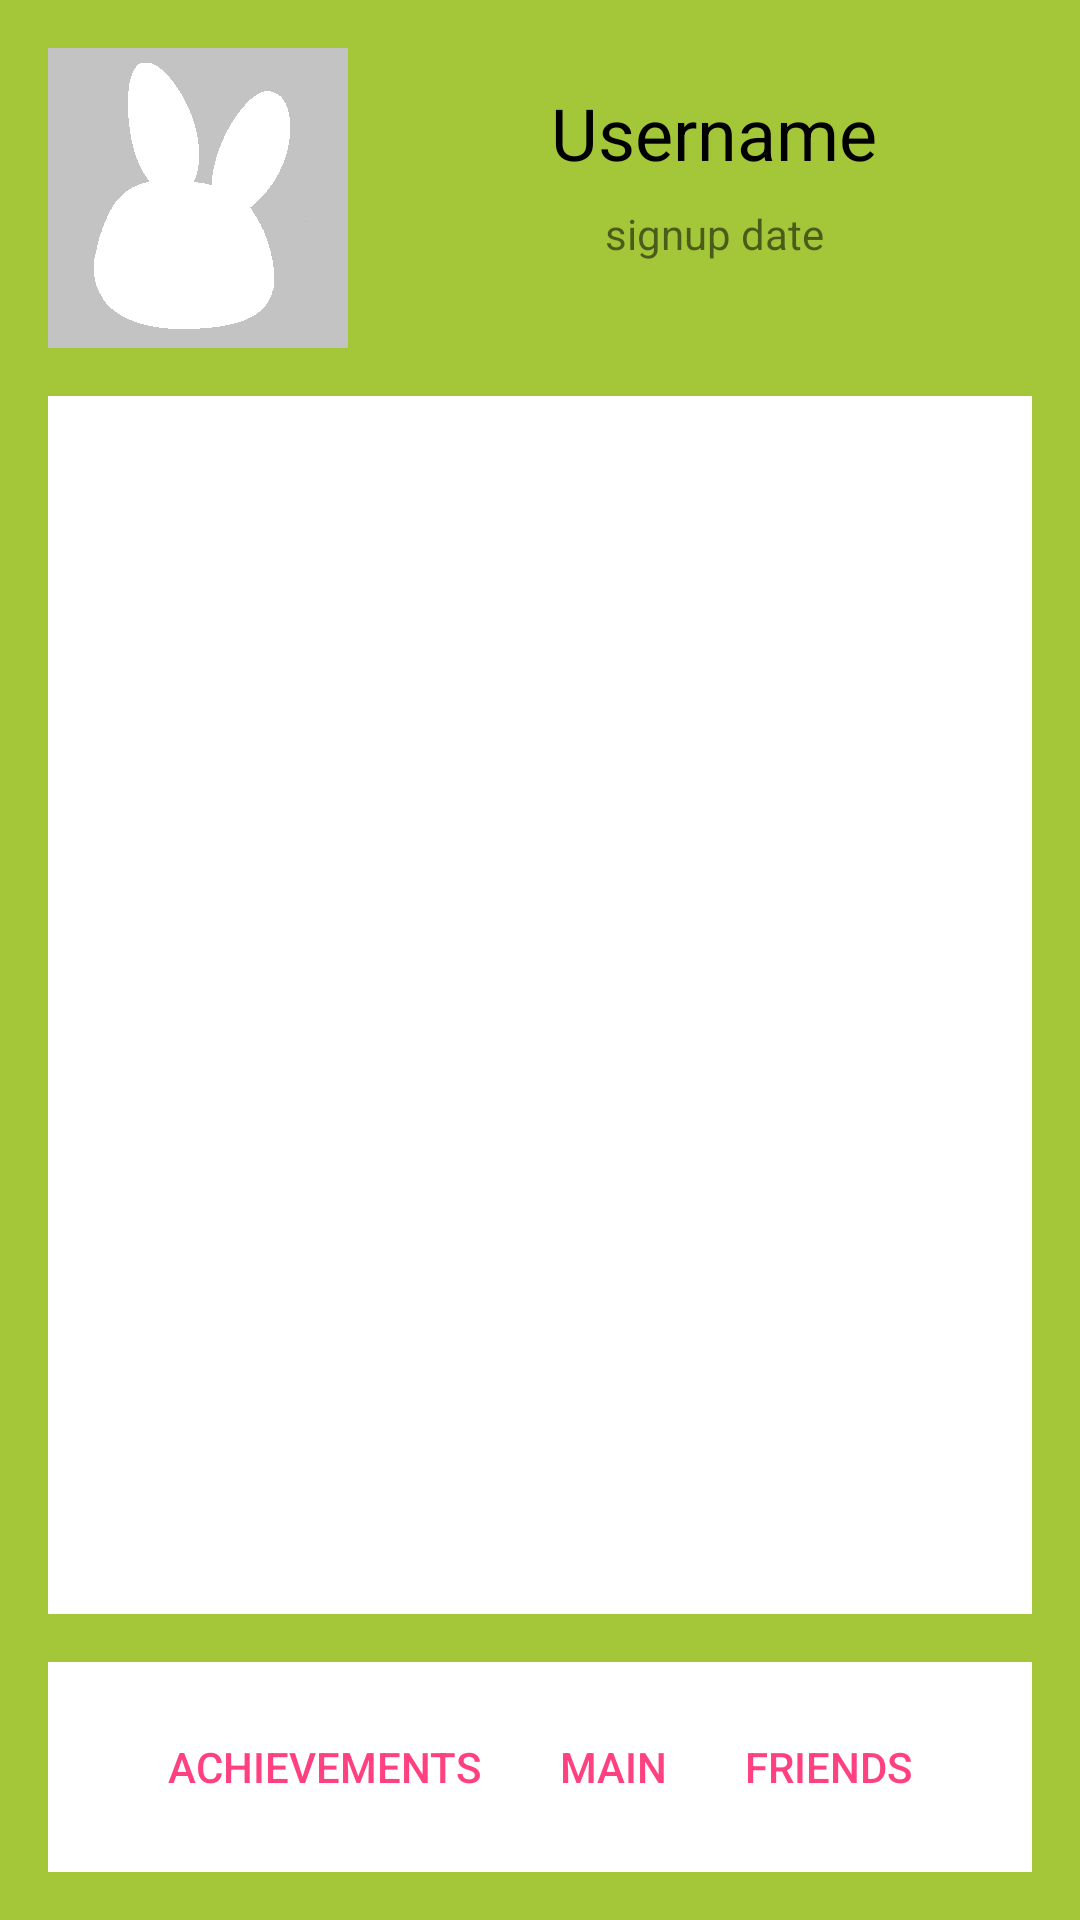

Screen size 1080px x 1920px. Icon name, then its box in pixels as (x1, y1, x2, y2):
greyrabbit: (48, 48, 348, 348)
